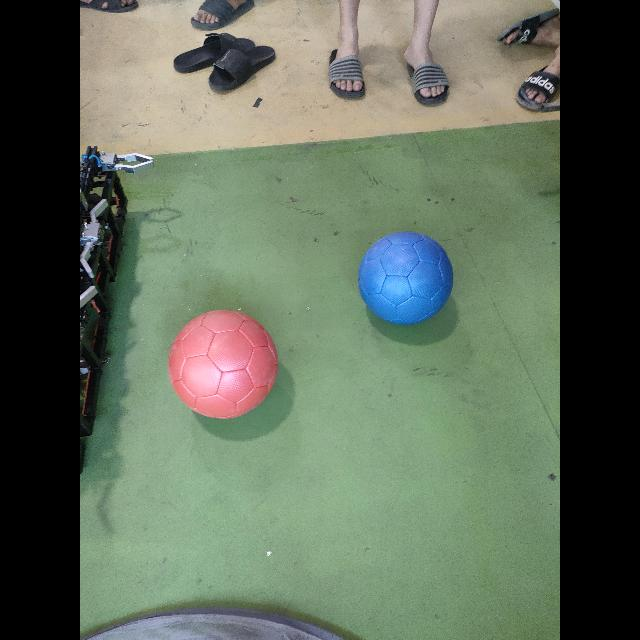B: (359, 232, 452, 325)
R: (169, 310, 278, 419)
